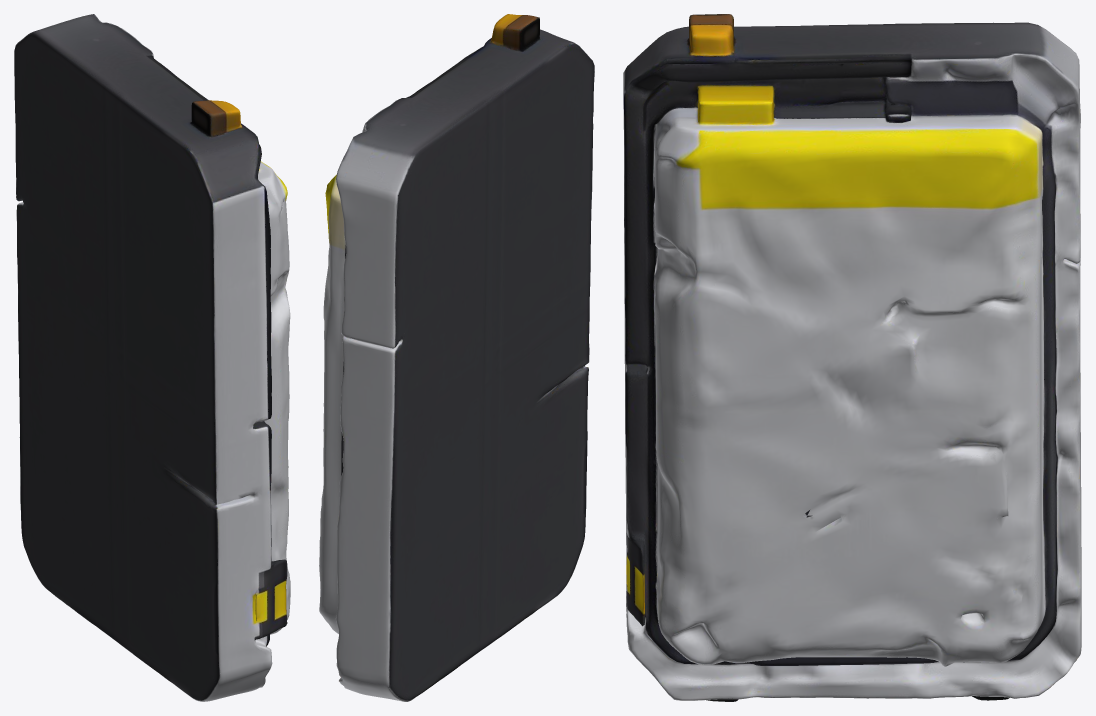
File: ml_job_part_battery.glb
The picture shows the model from 3 angles, left to right: view 1: azimuth 30°, elevation 25°; view 2: azimuth 150°, elevation 25°; view 3: azimuth 270°, elevation 25°; orthographic projection. The views are drawn at different scales.
Visible parts, largest first — view 1: tripo_node_2b6788f5-f669-479a-8679-e82188ee6e70; view 2: tripo_node_2b6788f5-f669-479a-8679-e82188ee6e70; view 3: tripo_node_2b6788f5-f669-479a-8679-e82188ee6e70.
Boxes of the visible parts, <box> form: tripo_node_2b6788f5-f669-479a-8679-e82188ee6e70: <box>14,14,290,701</box>; tripo_node_2b6788f5-f669-479a-8679-e82188ee6e70: <box>319,14,594,701</box>; tripo_node_2b6788f5-f669-479a-8679-e82188ee6e70: <box>623,14,1081,701</box>.
Size of the model in its own units: 0.195 by 0.9796 by 0.6051.
Materials: 1 (1 with a texture image).
